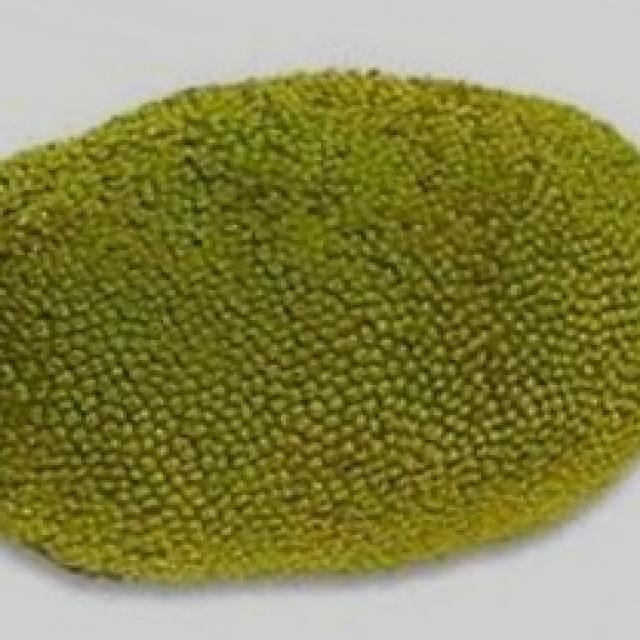Fruit: (0, 185, 394, 635), (243, 35, 640, 315)
